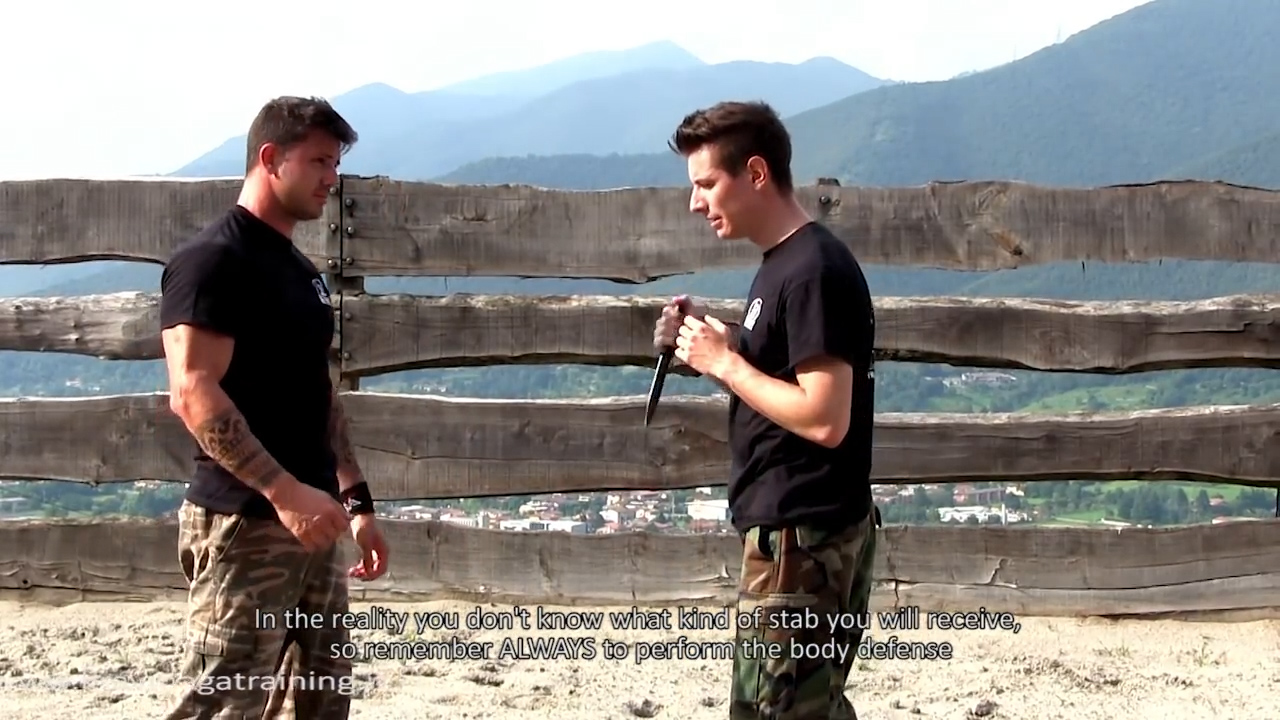knife: (637, 293, 693, 433)
